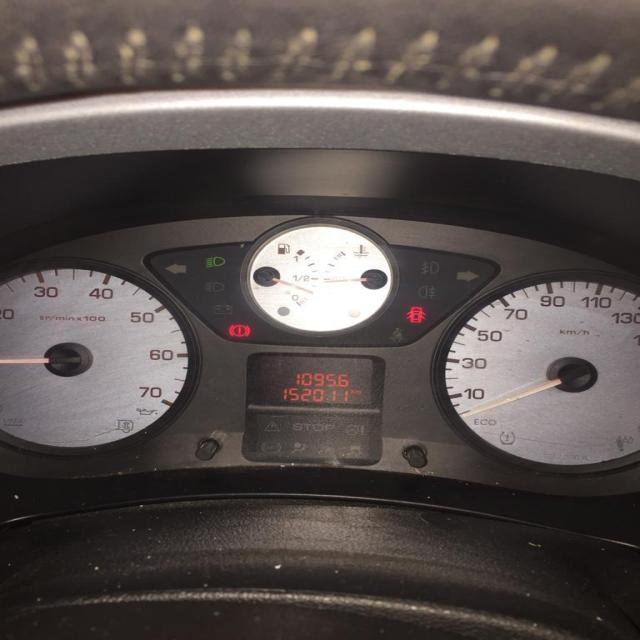odometer: (253, 353, 374, 406)
